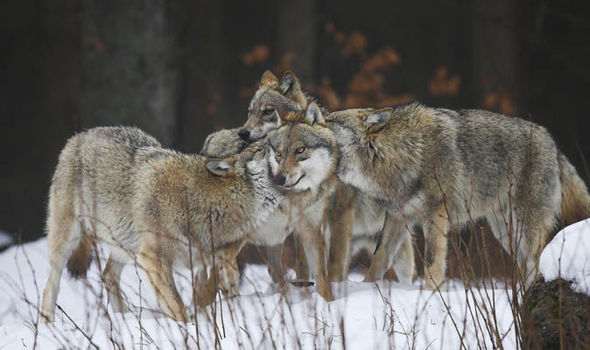wolf: (245, 89, 567, 302), (45, 121, 328, 308), (323, 111, 590, 286)
